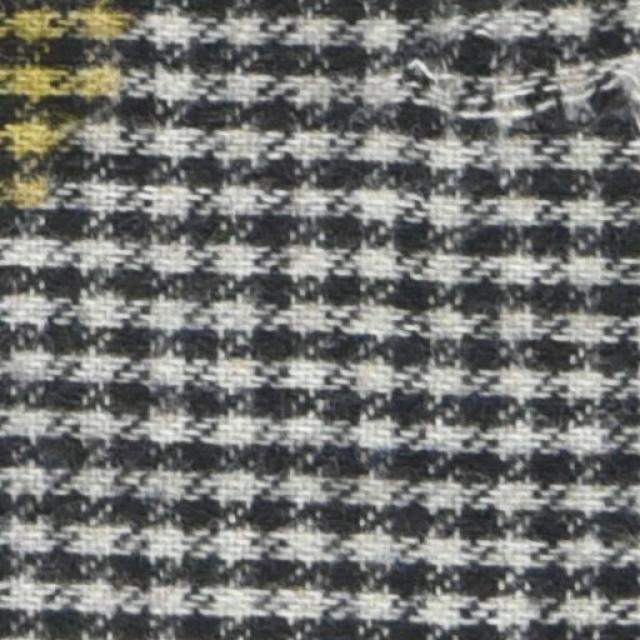Snag: (414, 37, 639, 150)
Stain: (0, 1, 151, 220)
